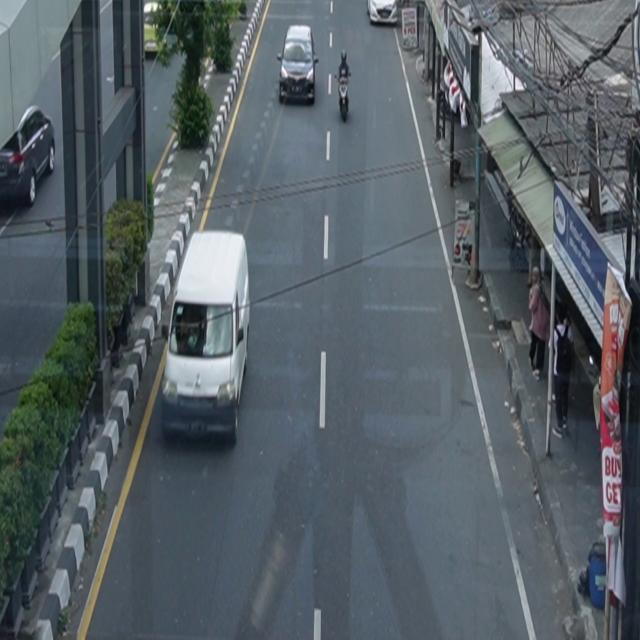bus: (161, 230, 251, 444)
car: (1, 106, 56, 209), (277, 25, 320, 105), (367, 1, 399, 26)
